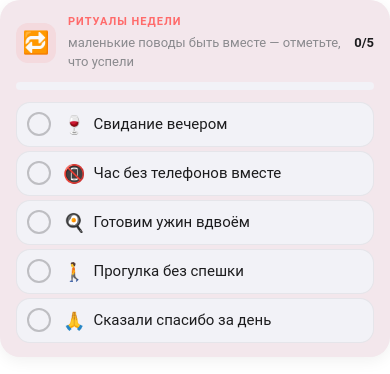
it: Rituals › toggles a ritual and updates the count
What coordinates should you click on to do the following:
click the text "Свидание вечером"
I would click on:
 (160, 124)
Its box is [94,113,228,135].
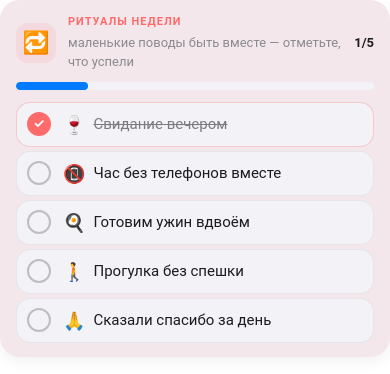
Expected: the text "1/5" is shown, [354,33,374,52]
